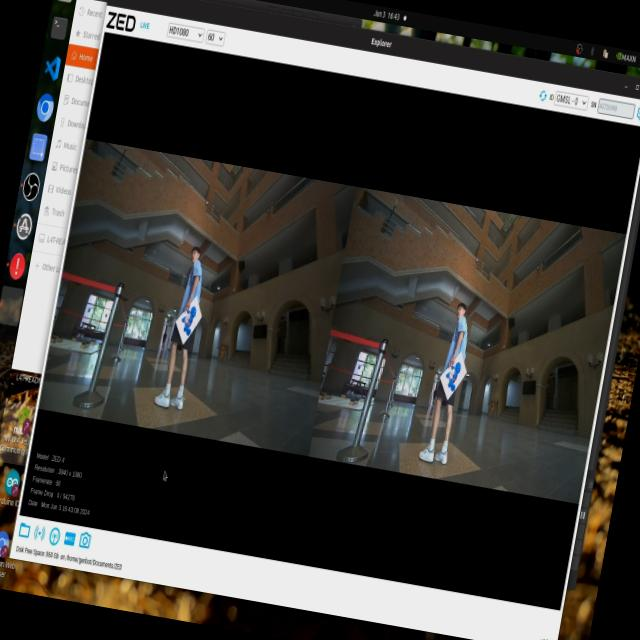blue: (173, 302, 208, 350), (435, 354, 463, 402)
